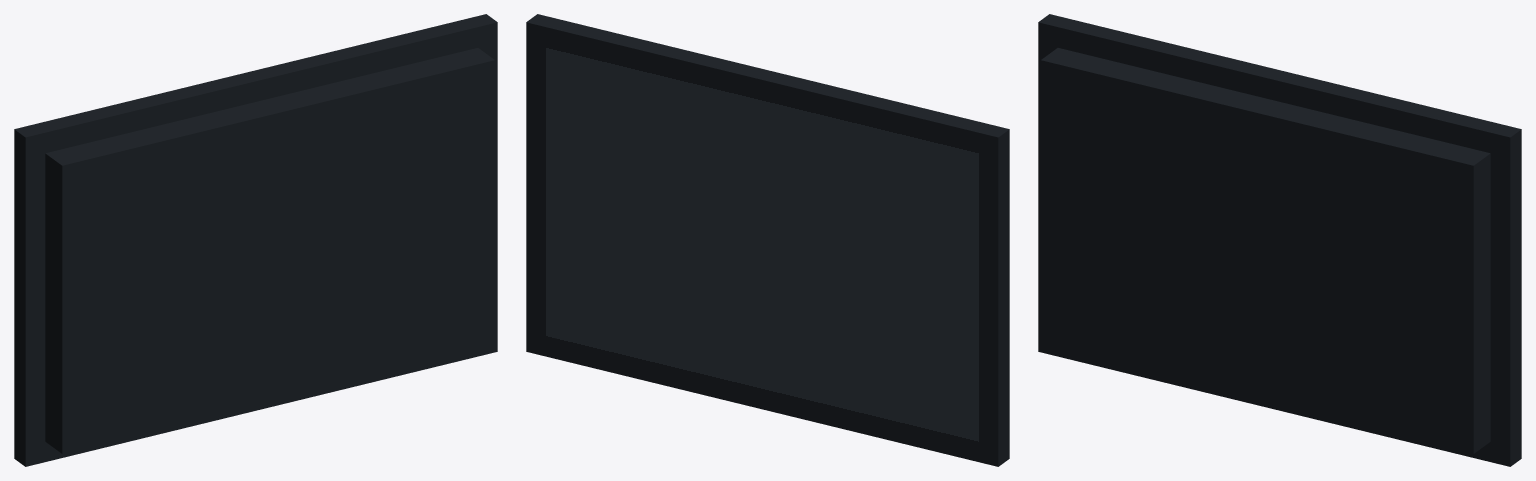
3 views of the same model, side by side, from view 1: azimuth 30°, elevation 25°; view 2: azimuth 150°, elevation 25°; view 3: azimuth 330°, elevation 25° (orthographic).
Parts seen in each view (by area): view 1: mesh (×2); view 2: mesh; view 3: mesh (×2).
Part boxes in pixels (<box>): mesh (×2): <box>14,14,497,466</box>; mesh: <box>526,14,1009,466</box>; mesh (×2): <box>1038,14,1521,466</box>.
Bounding box in the file's own units: 3 × 2 × 0.3125.
1 material, 1 textured.
